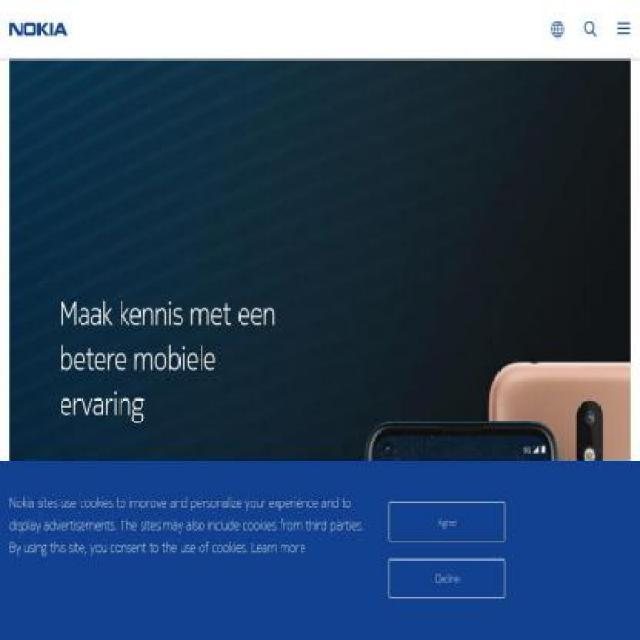button: (59, 528, 178, 574), (388, 502, 506, 542), (388, 558, 506, 598), (9, 0, 69, 58), (584, 19, 598, 38), (551, 19, 564, 39), (618, 22, 630, 35)
